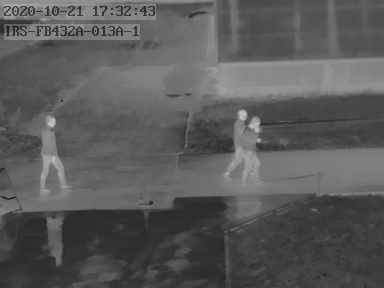person: (37, 115, 67, 190), (228, 109, 250, 180), (244, 116, 261, 177)
